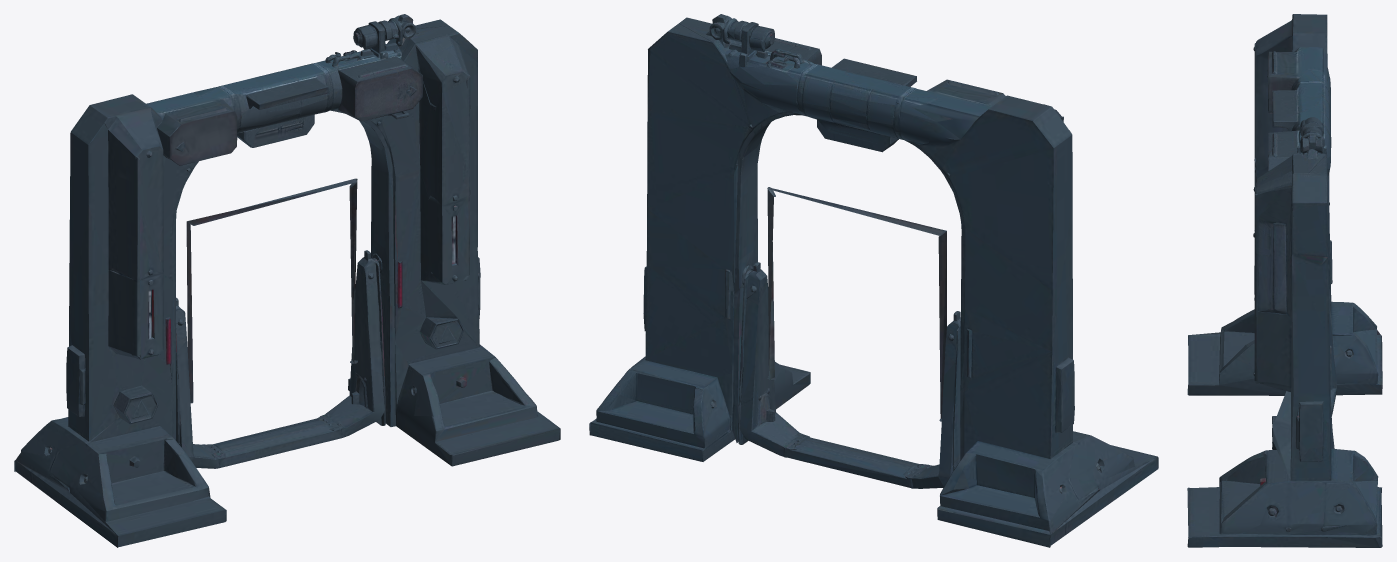
File: extraction-gate.glb
3 views of the same model, side by side, from view 1: azimuth 30°, elevation 25°; view 2: azimuth 150°, elevation 25°; view 3: azimuth 270°, elevation 25° (orthographic). The views are drawn at different scales.
Parts seen in each view (by area): view 1: mesh_node; view 2: mesh_node; view 3: mesh_node.
Boxes of the visible parts, x1,y1,x2,y2 form: mesh_node: [14, 14, 560, 547]; mesh_node: [589, 14, 1158, 547]; mesh_node: [1187, 14, 1382, 547].
Bounding box in the file's own units: 1.9 × 1.64 × 0.7757.
Materials: 1 (1 with a texture image).
